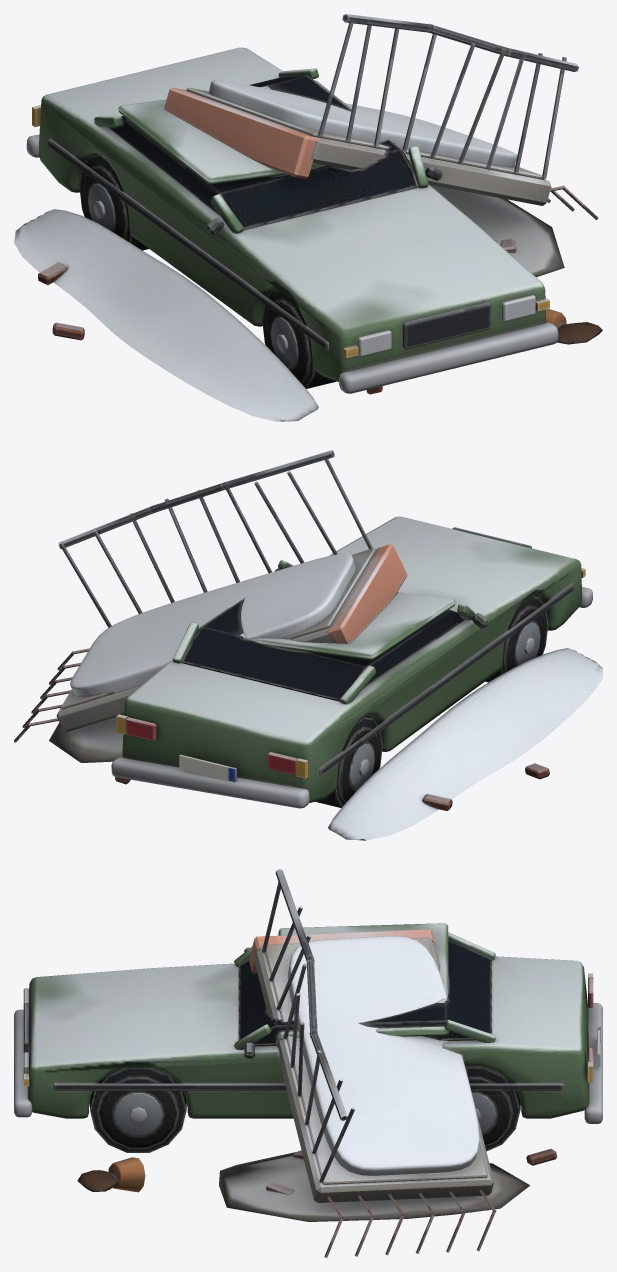
The model's file is car_crushed.glb.
The picture shows the model from 3 angles, top to bottom: view 1: azimuth 30°, elevation 25°; view 2: azimuth 150°, elevation 25°; view 3: azimuth 270°, elevation 25°; orthographic projection. The views are drawn at different scales.
Visible parts, largest first — view 1: car_crushed; view 2: car_crushed; view 3: car_crushed.
Boxes of the visible parts, x1=… form: car_crushed: x1=14, y1=14, x2=602, y2=421; car_crushed: x1=14, y1=450, x2=602, y2=840; car_crushed: x1=14, y1=869, x2=602, y2=1257.
Bounding box in the file's own units: 4.38 × 2.32 × 4.5.
Materials: 1 (1 with a texture image).
